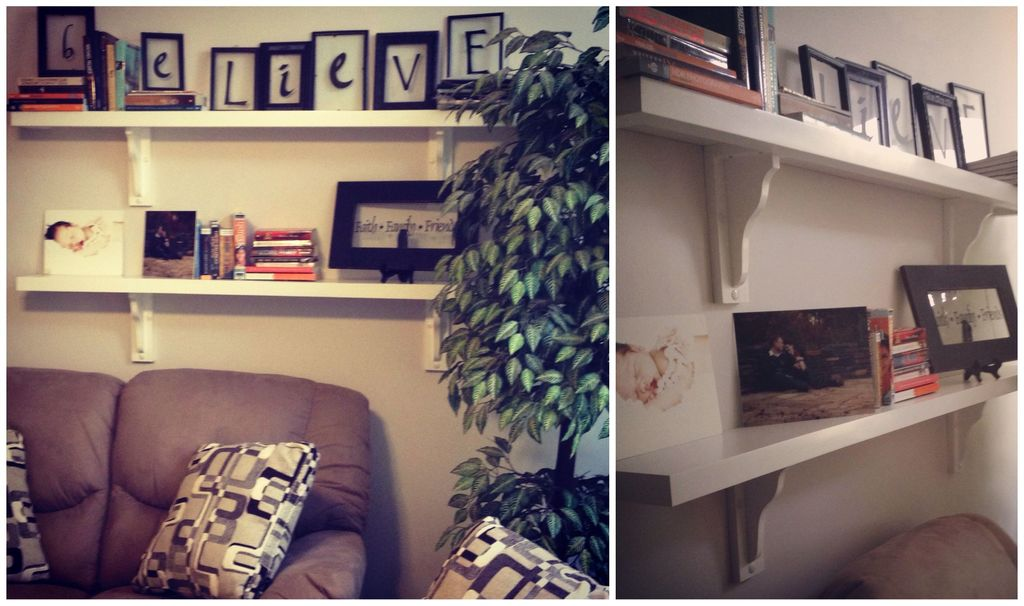Couch: (0, 363, 370, 605)
